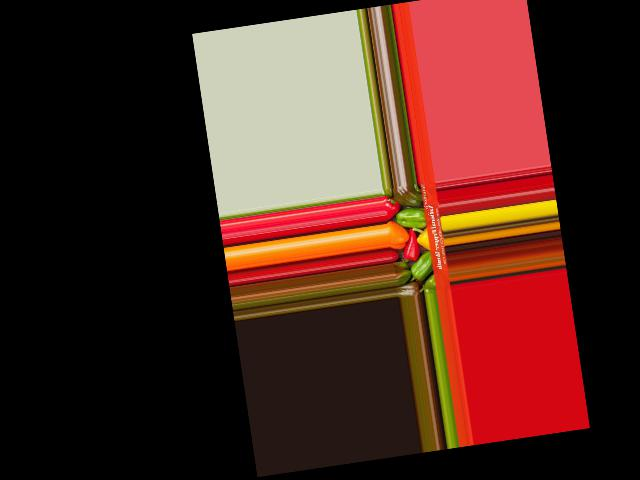bell_pepper: (392, 183, 423, 209)
